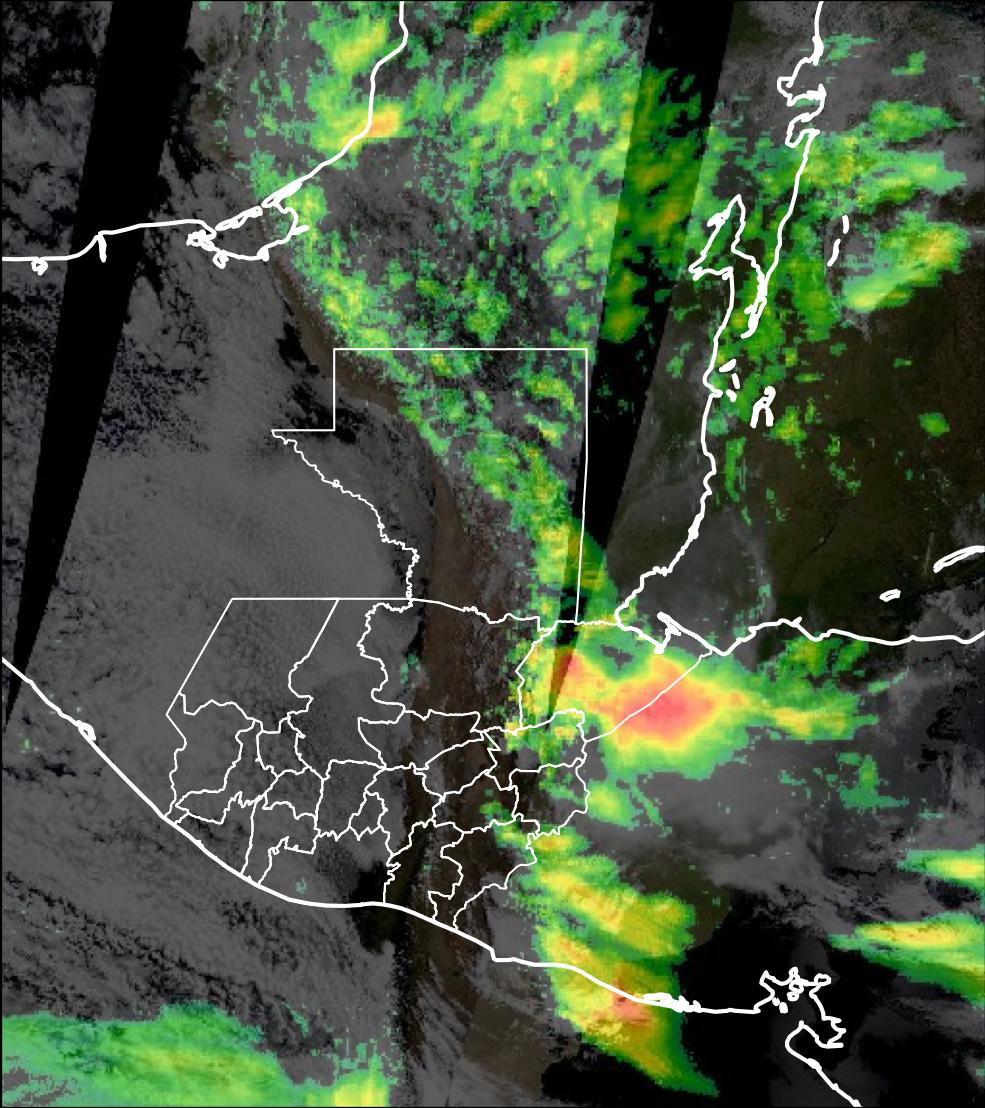precipitacion: (525, 621, 768, 775)
